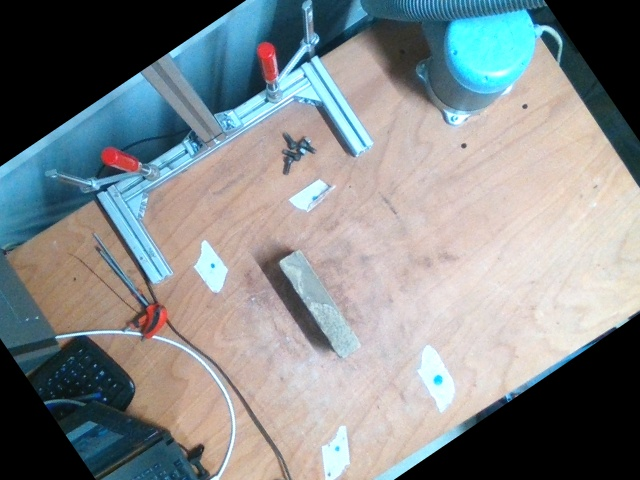brick-side: (280, 251, 360, 358)
